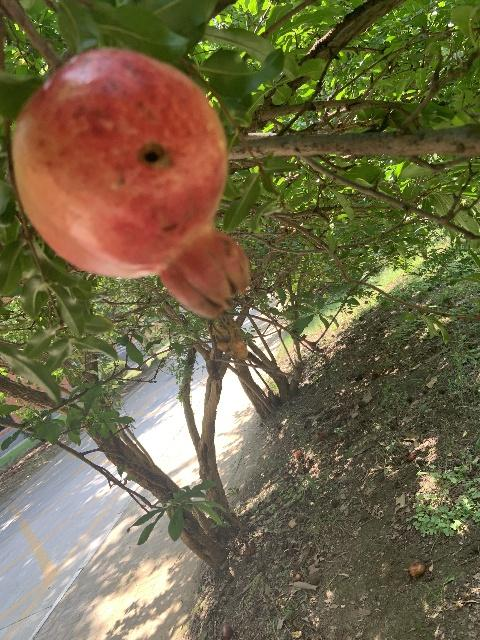ripe: (10, 48, 249, 320)
